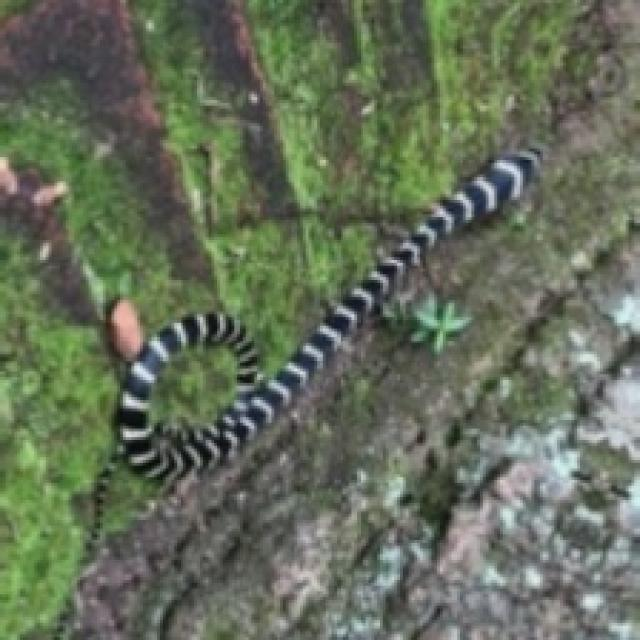king cobra: (117, 146, 540, 483), (146, 340, 240, 431)
